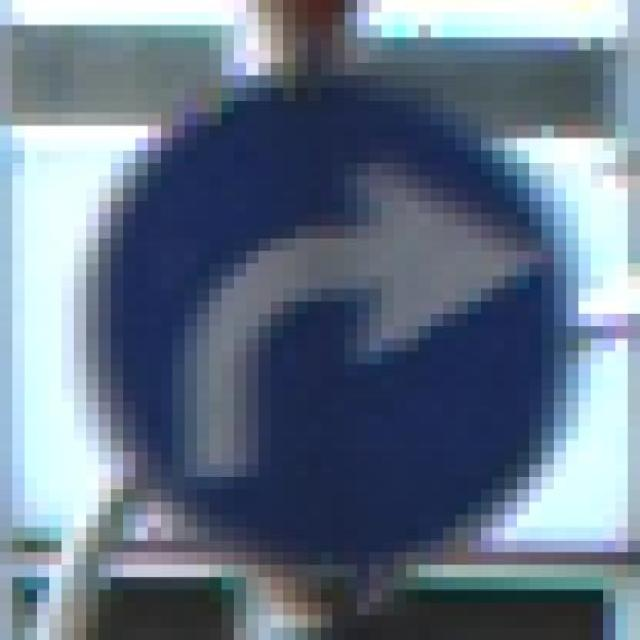Turn right ahead: (74, 50, 591, 602)
